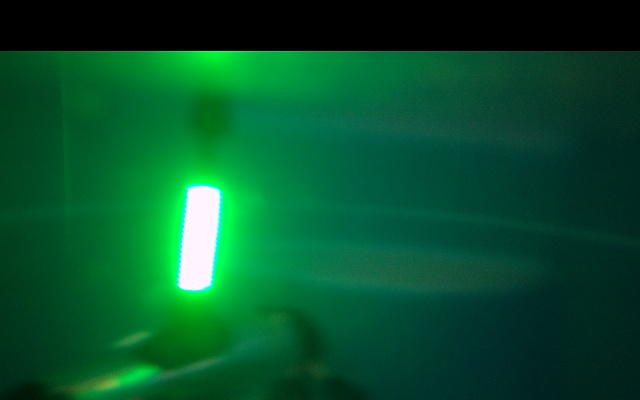green: (177, 181, 222, 303)
